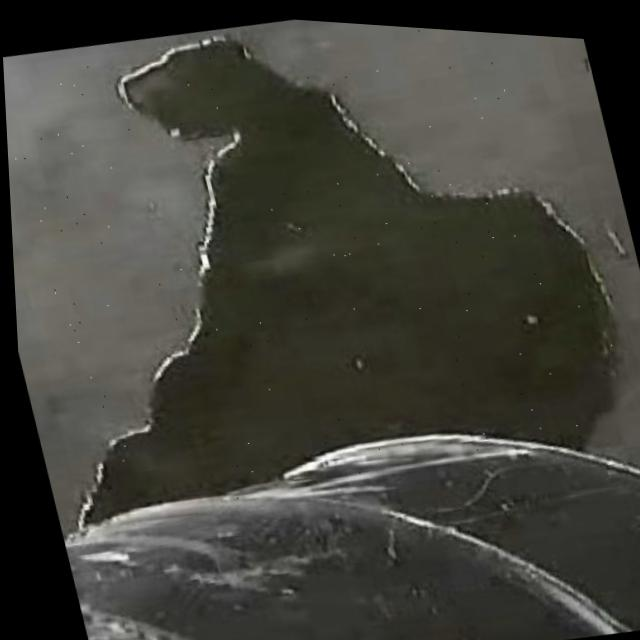spillage: (79, 33, 621, 522)
